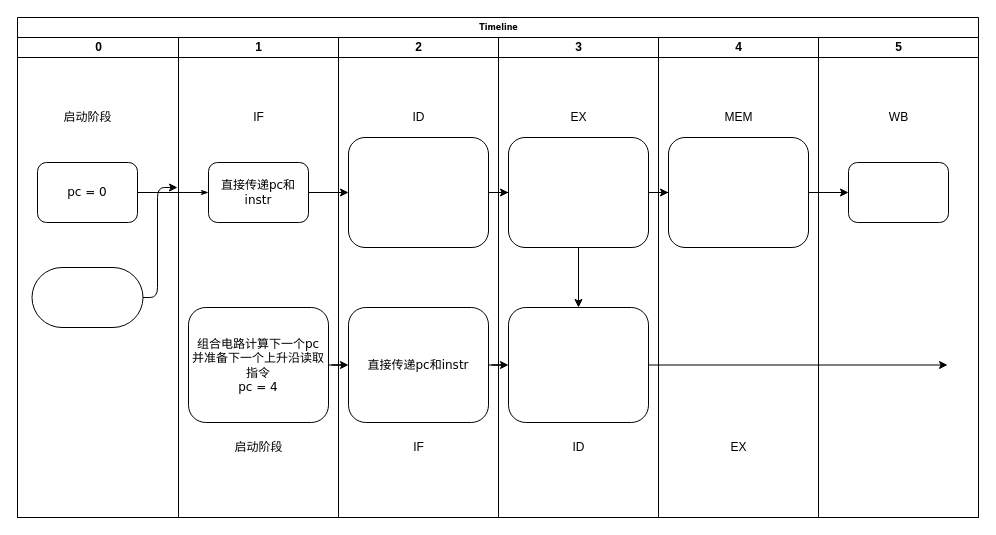
Some shapes in this 996 by 535 pixel diagram are drawn without their labels. Here are the shapes that lost their labels. From the top down, the centre of each, then its label:
At [418,192]: "对指令进行译码 翻译为简单的RTL操作 解析出指令使用的寄存器 通过异步读取寄存器的值 传递读取的寄存器值".
At [578,192]: "根据传入的RTL指令进行计算 根据计算结果实行RTL操作，如通知CPU执行跳转，准备读取或写入内存".
At [738,192]: "本周期前的上升沿已经完成写回或读取，但对读取操作需要写回寄存器组".
At [898,192]: "利用上升沿写回寄存器组".
At [87,297]: "此处上升沿通过pc取得对应指令".
At [578,364]: "译码时需要读取寄存器值，而此时上条指令未写回。 因此需要在上升沿前（同一个周期）从EX通过转发模块获取新的寄存器值".
